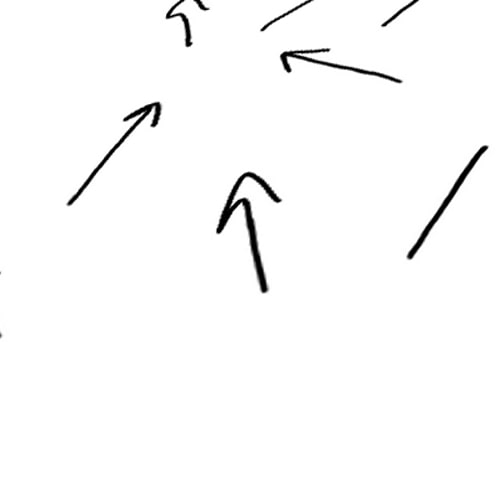arrow: (69, 99, 164, 202), (209, 168, 284, 295), (409, 146, 491, 260), (279, 47, 404, 88), (169, 1, 208, 45)
arrownohead: (259, 3, 314, 31), (381, 1, 419, 30)
